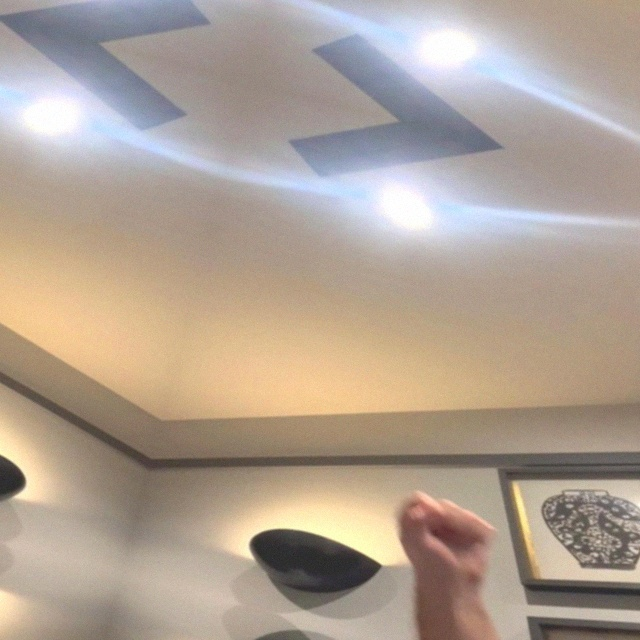Rock: (383, 485, 504, 584)
